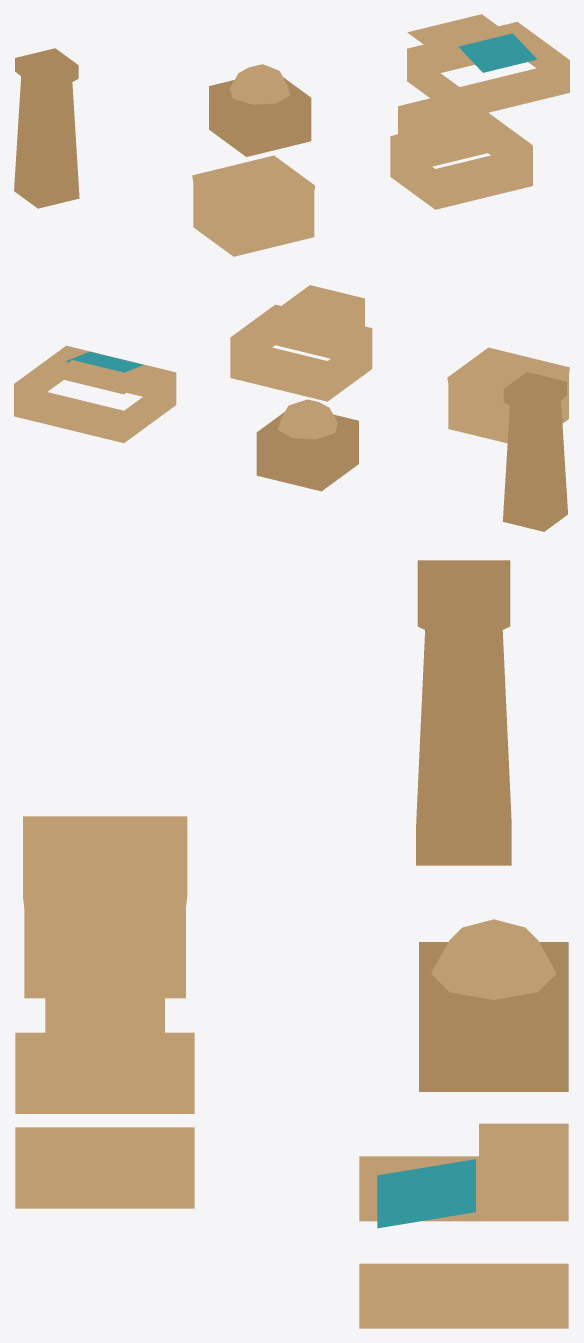
File: desert_village.obj
The picture shows the model from 3 angles, top to bottom: view 1: azimuth 30°, elevation 25°; view 2: azimuth 150°, elevation 25°; view 3: azimuth 270°, elevation 25°; orthographic projection. The views are drawn at different scales.
Visible parts, largest first — view 1: desert_village; view 2: desert_village; view 3: desert_village.
Boxes of the visible parts, bbox=[...] form: desert_village: bbox=[14, 14, 569, 256]; desert_village: bbox=[14, 285, 569, 531]; desert_village: bbox=[15, 560, 568, 1328].
Bounding box in the file's own units: 39.85 × 9.8 × 18.5.
